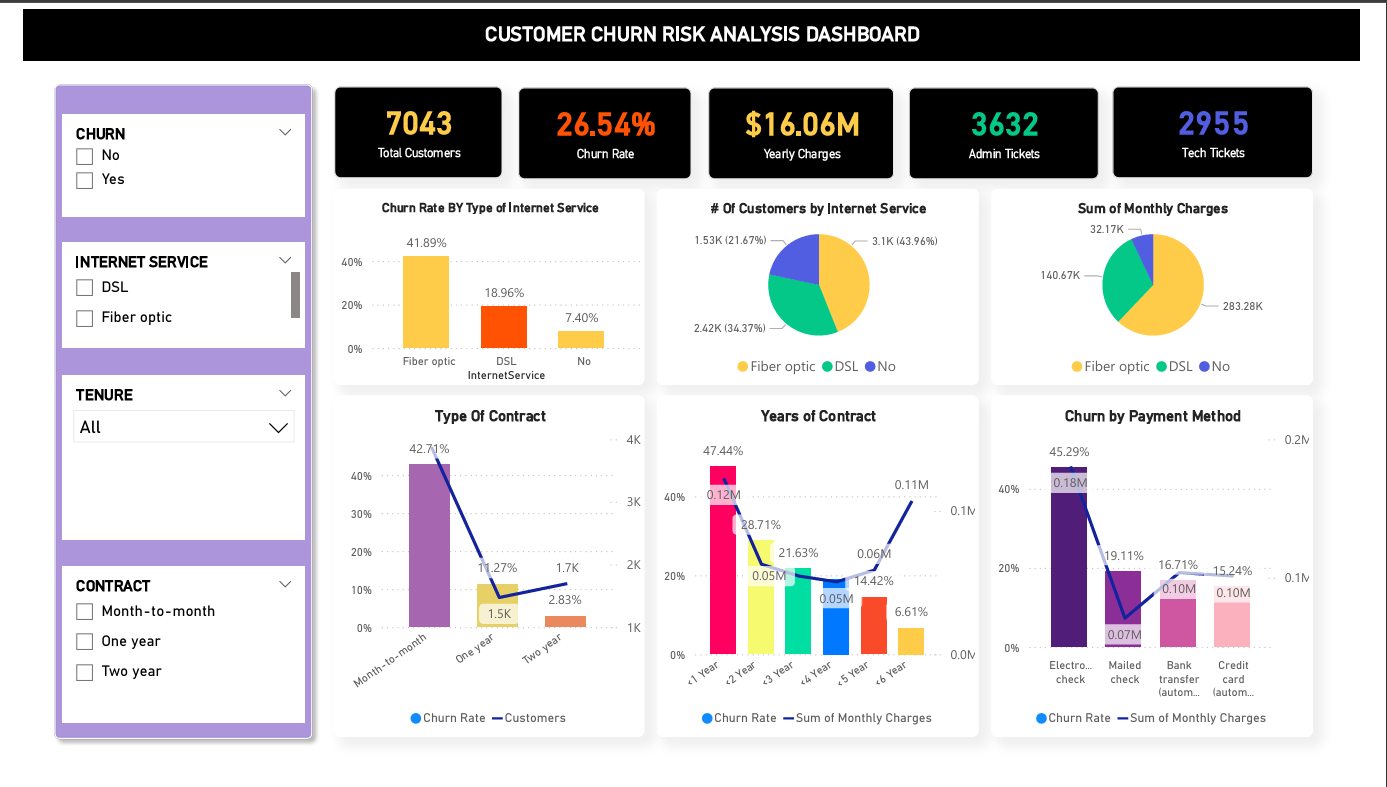

This screenshot's page, from the dashboard's own definition file:
{"tool":"powerbi","page":{"name":"Customer Risk Analysis","canvas":[1280,720],"ordinal":0},"visuals":[{"type":"shape","box":[0,0,1280,49],"z":0},{"type":"textbox","box":[21.2,7.5,1258.8,33.8],"z":1000},{"type":"shape","box":[21.2,62.5,265,645],"z":2000},{"type":"slicer","fields":{"Values":["Churn.Churn"]},"box":[37.5,101.2,232.5,97.5],"z":3000},{"type":"slicer","fields":{"Values":["Churn.InternetService"]},"box":[37.5,223.8,232.5,101.2],"z":4000},{"type":"slicer","fields":{"Values":["Churn.tenure (bins)"]},"box":[37.5,351.2,232.5,157.5],"z":5000},{"type":"slicer","fields":{"Values":["Churn.Contract"]},"box":[37.5,533.8,232.5,150],"z":6000},{"type":"card","fields":{"Values":["CountNonNull(01 Churn-Dataset.customerID)"]},"box":[298,74,161,88],"z":7000},{"type":"card","fields":{"Values":["Churn.% Churn Rate"]},"box":[474,75,166,88],"z":8000},{"type":"card","fields":{"Values":["Sum(Churn.TotalCharges)"]},"box":[656,75,178,88],"z":9000},{"type":"card","fields":{"Values":["Sum(Churn.numAdminTickets)"]},"box":[848,75,182,88],"z":10000},{"type":"card","fields":{"Values":["Sum(Churn.numTechTickets)"]},"box":[1043,74,192,88],"z":11000},{"type":"columnChart","title":"Churn Rate BY Type of Internet Service","fields":{"Y":["Churn.% Churn Rate"],"Category":["Churn.InternetService"]},"box":[298,172,297,188],"z":12000},{"type":"pieChart","title":"# Of Customers by Internet Service","fields":{"Y":["CountNonNull(Churn.customerID)"],"Category":["Churn.InternetService"]},"box":[607,172,308,188],"z":13000},{"type":"pieChart","title":"Sum of Monthly Charges","fields":{"Category":["Churn.InternetService"],"Y":["Sum(Churn.MonthlyCharges)"]},"box":[927,172,308,188],"z":14000},{"type":"lineStackedColumnComboChart","title":"Type Of Contract","fields":{"Y2":["CountNonNull(Churn.customerID)"],"Y":["Churn.% Churn Rate"],"Category":["Churn.Contract"]},"box":[298,370,297,327],"z":15000},{"type":"lineStackedColumnComboChart","title":"Years of Contract","fields":{"Y":["Churn.% Churn Rate"],"Y2":["Sum(Churn.MonthlyCharges)"],"Category":["Churn.Tenure(in years)"]},"box":[607,370,308,327],"z":16000},{"type":"lineStackedColumnComboChart","title":"Churn by Payment Method","fields":{"Y":["Churn.% Churn Rate"],"Y2":["Sum(Churn.MonthlyCharges)"],"Category":["Churn.PaymentMethod"]},"box":[927,370,308,327],"z":17000}]}

Visuals, with their boxes in screenshot pixels (x1, y1, x2, y2), scaled from the page's 1280x720 canvas onto the 1387x787 screenshot:
shape: <box>0,0,1386,54</box>
textbox: <box>23,8,1386,45</box>
shape: <box>23,68,310,773</box>
slicer - Churn.Churn: <box>41,111,293,217</box>
slicer - Churn.InternetService: <box>41,245,293,355</box>
slicer - Churn.tenure (bins): <box>41,384,293,556</box>
slicer - Churn.Contract: <box>41,583,293,747</box>
card - CountNonNull(01 Churn-Dataset.customerID): <box>323,81,497,177</box>
card - Churn.% Churn Rate: <box>514,82,694,178</box>
card - Sum(Churn.TotalCharges): <box>711,82,904,178</box>
card - Sum(Churn.numAdminTickets): <box>919,82,1116,178</box>
card - Sum(Churn.numTechTickets): <box>1130,81,1338,177</box>
"Churn Rate BY Type of Internet Service" columnChart: <box>323,188,645,393</box>
"# Of Customers by Internet Service" pieChart: <box>658,188,991,393</box>
"Sum of Monthly Charges" pieChart: <box>1004,188,1338,393</box>
"Type Of Contract" lineStackedColumnComboChart: <box>323,404,645,762</box>
"Years of Contract" lineStackedColumnComboChart: <box>658,404,991,762</box>
"Churn by Payment Method" lineStackedColumnComboChart: <box>1004,404,1338,762</box>
